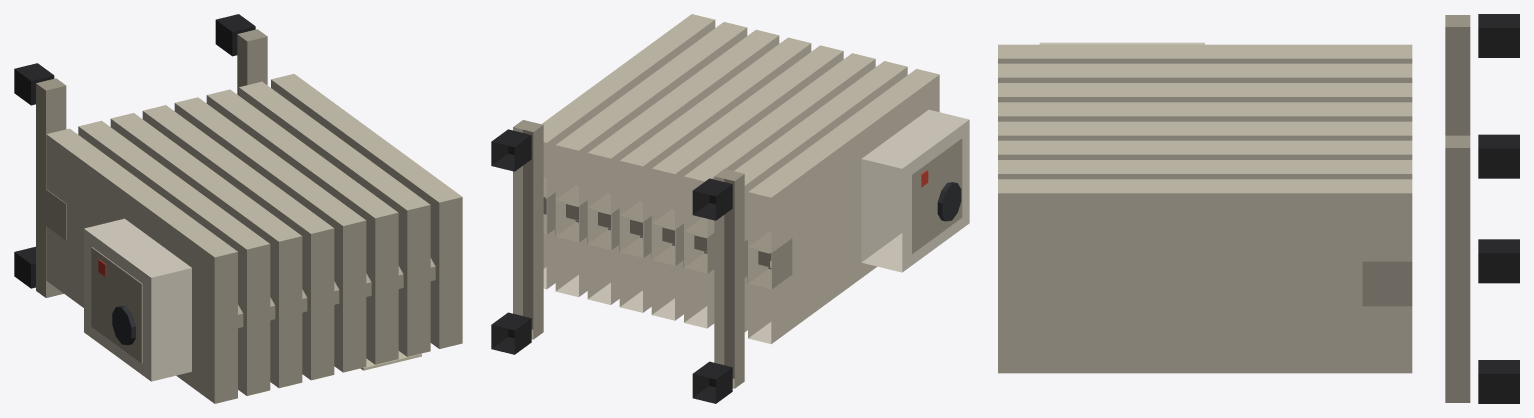
The model's file is a_heater.obj.
3 views of the same model, side by side, from view 1: azimuth 30°, elevation 25°; view 2: azimuth 150°, elevation 25°; view 3: azimuth 270°, elevation 25° (orthographic). The views are drawn at different scales.
Bounding box in the file's own units: 0.516 × 0.34 × 0.63.
1 material, 1 textured.
